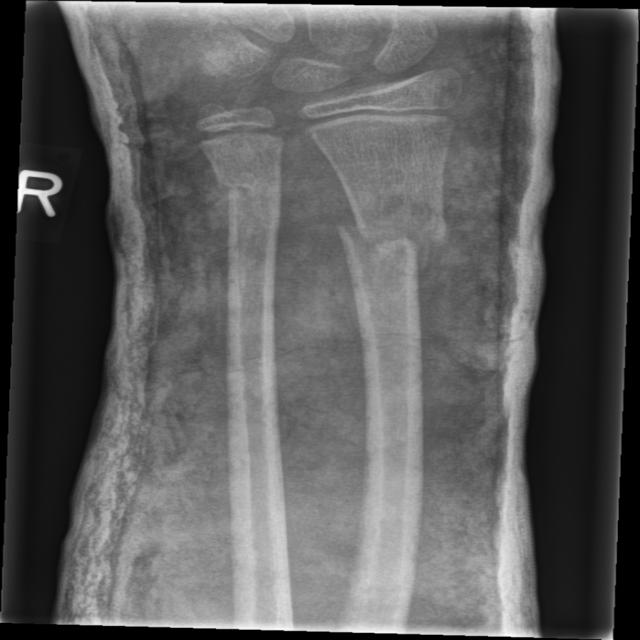radius fracture: (316, 186, 476, 322)
ulna fracture: (190, 160, 303, 267)
